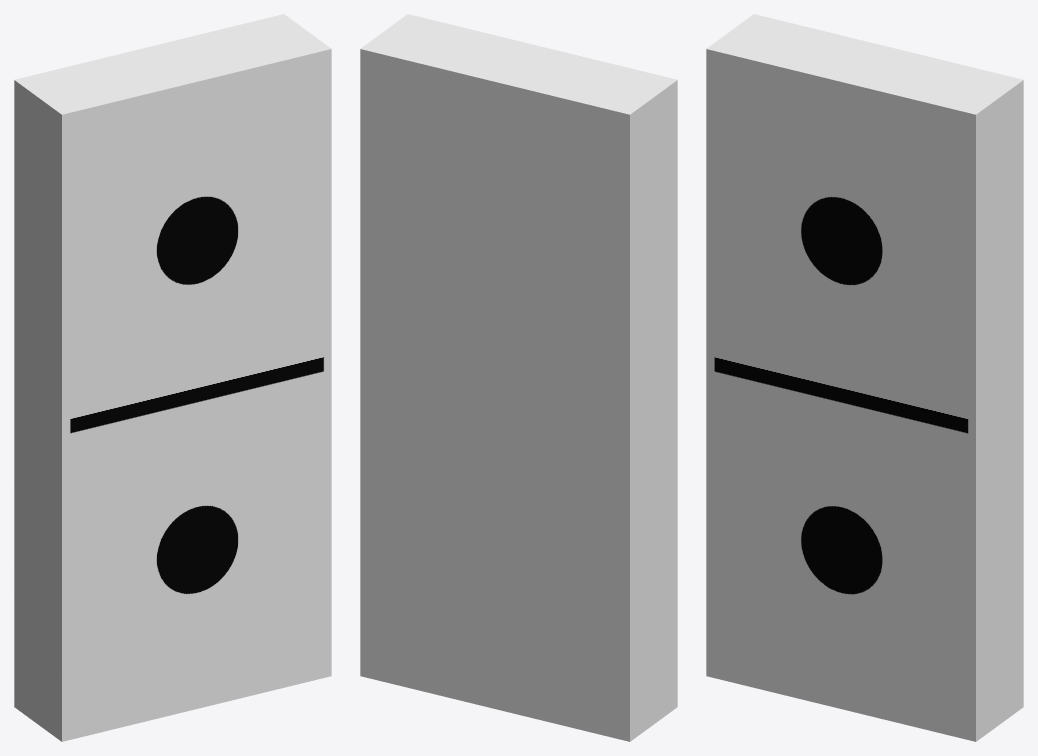
Rendered from DeadDomino.fbx.
3 renders of one model, left to right at view 1: azimuth 30°, elevation 25°; view 2: azimuth 150°, elevation 25°; view 3: azimuth 330°, elevation 25°, orthographic.
Visible parts, largest first — view 1: Cube, Cube.003; view 2: Cube, Cube.003; view 3: Cube, Cube.003.
Boxes of the visible parts, <box> form: Cube: <box>14,14,331,427</box>; Cube.003: <box>14,362,331,741</box>; Cube: <box>360,14,677,427</box>; Cube.003: <box>360,362,677,741</box>; Cube: <box>706,14,1023,427</box>; Cube.003: <box>706,362,1023,741</box>.
Bounding box in the file's own units: 200 × 444 × 61.3.
